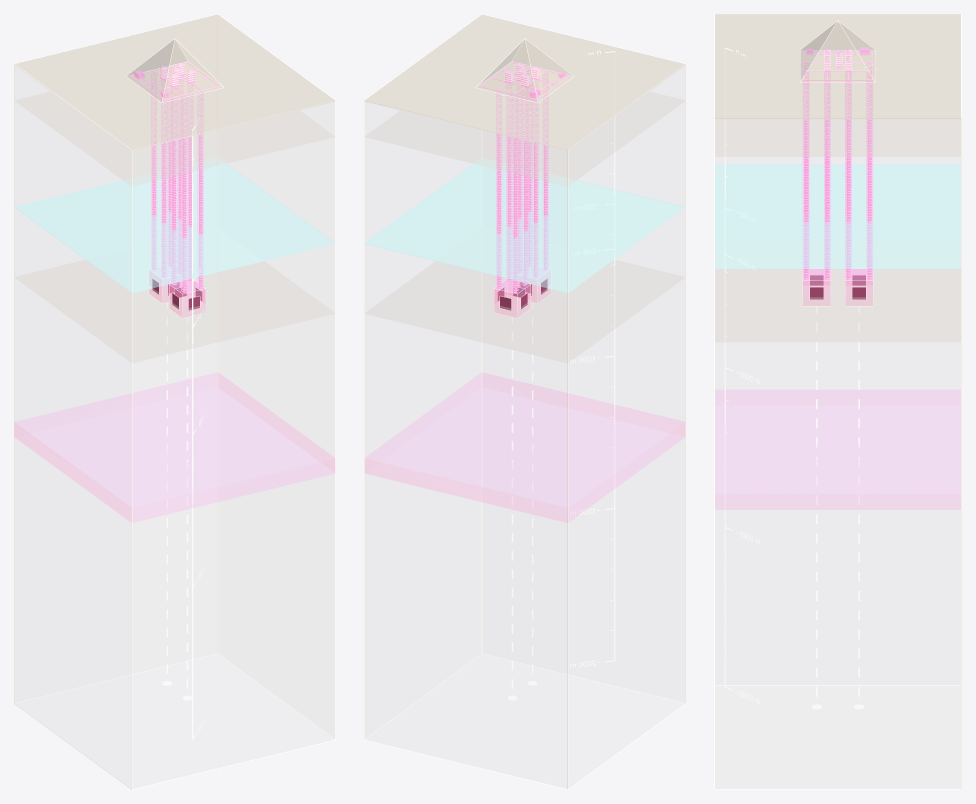
The model's file is chefren-sar.glb.
3 renders of one model, left to right at view 1: azimuth 30°, elevation 25°; view 2: azimuth 150°, elevation 25°; view 3: azimuth 270°, elevation 25°, orthographic. The views are drawn at different scales.
Visible parts, largest first — view 1: Strefa_1200m_miasto, Woda_wg_modelu_autorow, Grunt_powierzchnia, Granica_warstw_glebsze_skaly_osadowe, Granica_warstw_starsze_wapienie_i_margle, Grunt_blok_krawedzie, Piramida_Chefrena, Skala_pion, Spirala_1, Spirala_2, Spirala_5, Spirala_3 (+5 smaller); view 2: Strefa_1200m_miasto, Woda_wg_modelu_autorow, Grunt_powierzchnia, Granica_warstw_glebsze_skaly_osadowe, Granica_warstw_starsze_wapienie_i_margle, Grunt_blok_krawedzie, Piramida_Chefrena, Skala_pion, Spirala_7, Spirala_4, Spirala_1, Spirala_3 (+5 smaller); view 3: Strefa_1200m_miasto, Woda_wg_modelu_autorow, Grunt_powierzchnia, Granica_warstw_glebsze_skaly_osadowe, Granica_warstw_starsze_wapienie_i_margle, Piramida_Chefrena, Grunt_blok_krawedzie, Skala_pion, Spirala_5, Spirala_8, Spirala_7, Spirala_6 (+10 smaller).
Boxes of the visible parts, x1,y1,x2,y2 form: Strefa_1200m_miasto: [15, 372, 334, 522]; Woda_wg_modelu_autorow: [15, 158, 334, 292]; Grunt_powierzchnia: [15, 15, 334, 149]; Granica_warstw_glebsze_skaly_osadowe: [15, 260, 334, 362]; Granica_warstw_starsze_wapienie_i_margle: [16, 92, 334, 185]; Grunt_blok_krawedzie: [14, 14, 335, 789]; Piramida_Chefrena: [126, 39, 223, 102]; Skala_pion: [192, 130, 193, 739]; Spirala_1: [181, 93, 187, 292]; Spirala_2: [171, 88, 177, 284]; Spirala_5: [197, 91, 203, 288]; Spirala_3: [161, 80, 167, 277]; Strefa_1200m_miasto: [365, 372, 684, 522]; Woda_wg_modelu_autorow: [365, 158, 684, 292]; Grunt_powierzchnia: [365, 15, 684, 149]; Granica_warstw_glebsze_skaly_osadowe: [365, 260, 684, 362]; Granica_warstw_starsze_wapienie_i_margle: [365, 92, 683, 185]; Grunt_blok_krawedzie: [364, 14, 685, 789]; Piramida_Chefrena: [476, 39, 573, 102]; Skala_pion: [614, 51, 615, 660]; Spirala_7: [506, 83, 512, 281]; Spirala_4: [512, 94, 518, 293]; Spirala_1: [542, 73, 548, 269]; Spirala_3: [522, 87, 528, 285]; Strefa_1200m_miasto: [715, 390, 960, 509]; Woda_wg_modelu_autorow: [715, 164, 960, 268]; Grunt_powierzchnia: [715, 14, 960, 117]; Granica_warstw_glebsze_skaly_osadowe: [715, 269, 960, 341]; Granica_warstw_starsze_wapienie_i_margle: [715, 120, 960, 156]; Piramida_Chefrena: [800, 22, 875, 81]; Grunt_blok_krawedzie: [714, 14, 961, 789]; Skala_pion: [724, 48, 725, 686]; Spirala_5: [802, 72, 809, 279]; Spirala_8: [866, 72, 873, 279]; Spirala_7: [845, 72, 851, 278]; Spirala_6: [824, 71, 830, 278].
Size of the model in its own units: 701 by 2245 by 701.
